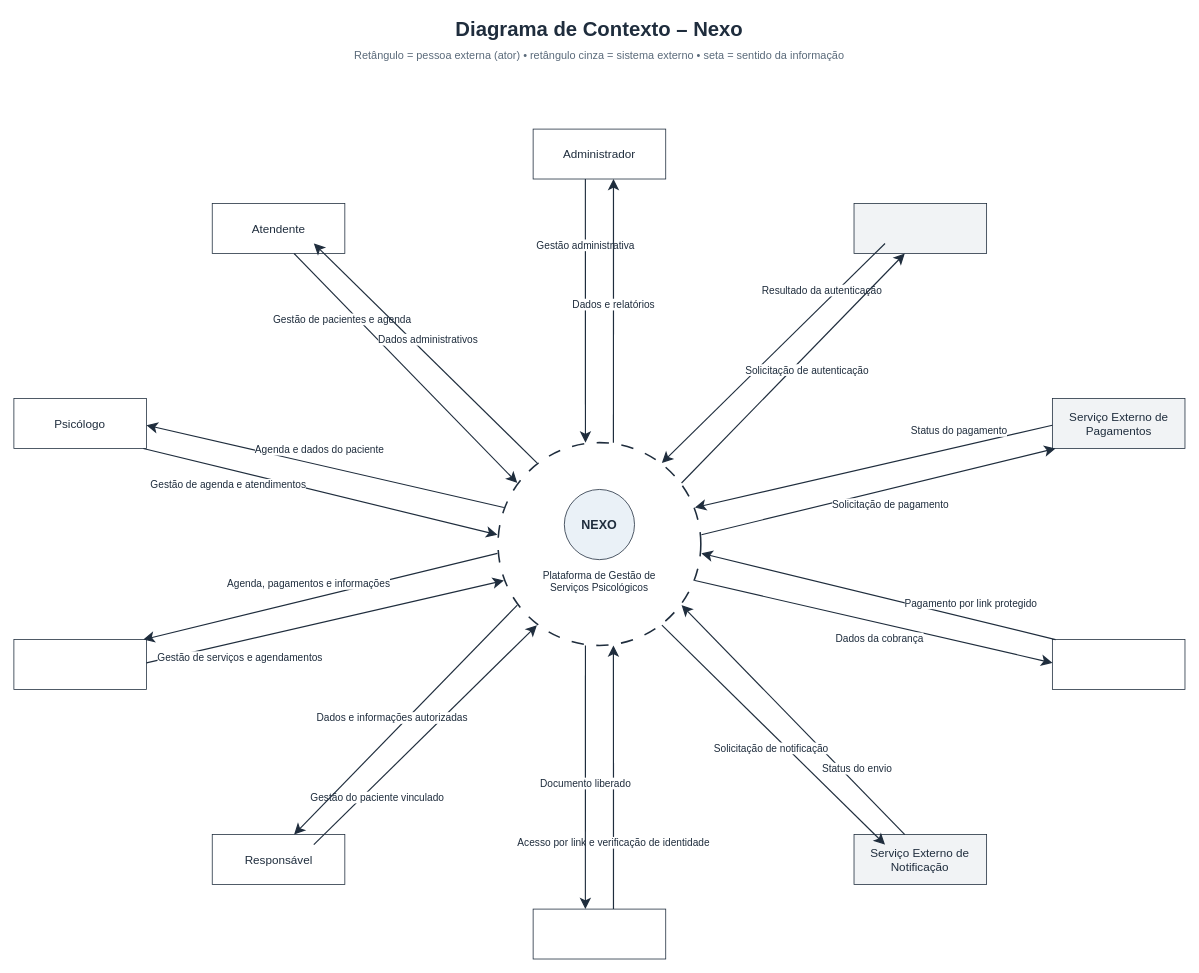
The diagram is 1199 pixels wide and 973 high, and some of its shapes have lost their labels. The centre of each missing label's shape, as x and y in pixels:
"Destinatário autorizado" goes at point (599, 933).
"Paciente" goes at point (79, 664).
"Pagador externo" goes at point (1118, 664).
"Serviço Externo de Autenticação" goes at point (920, 228).
